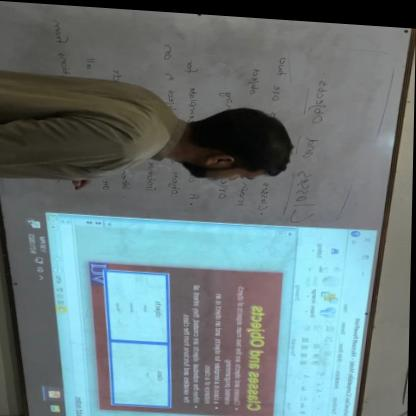Handwritten text: (280, 55, 349, 228), (269, 45, 294, 101), (243, 56, 268, 96), (257, 175, 278, 211)
Lecturer: (0, 58, 296, 203)
Whiteboard: (0, 2, 416, 416)
